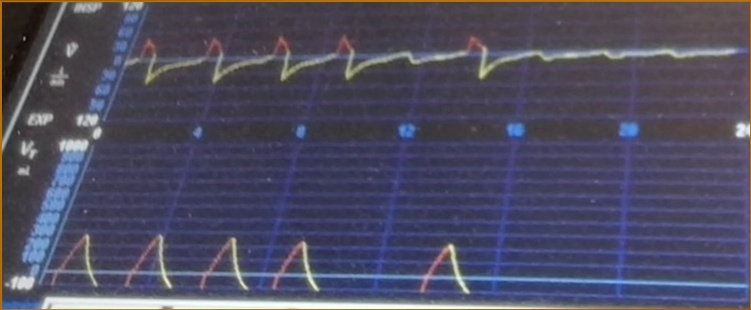Ineffective_effort Flow: (129, 23, 735, 106)
Ineffective_effort Volume: (51, 225, 511, 296)
